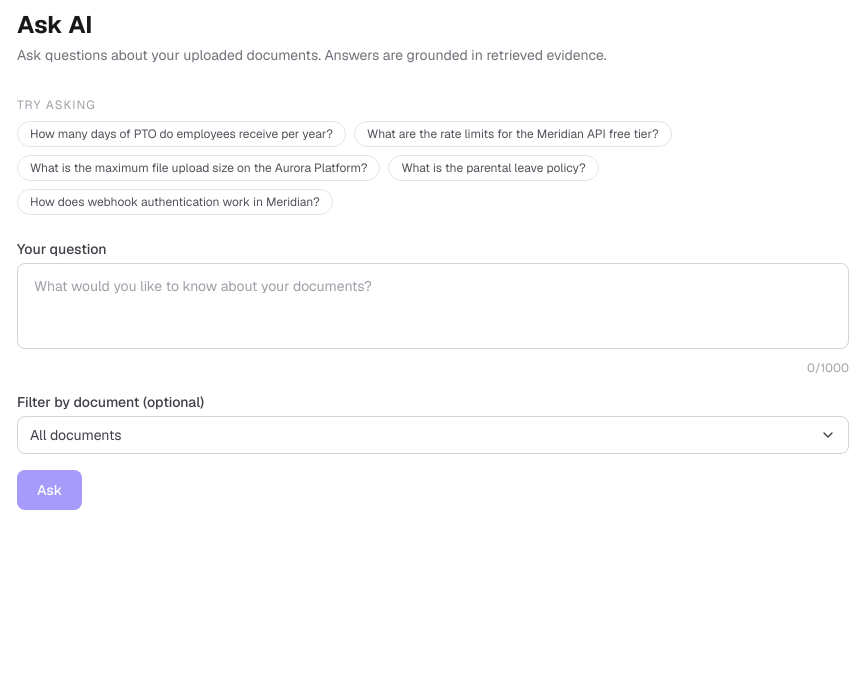
Test case: AskPage › renders citations when present
In the text box with placeholder "What would you like to know about your documents?": (433, 306) [17,263,849,349], type "What is 42?"
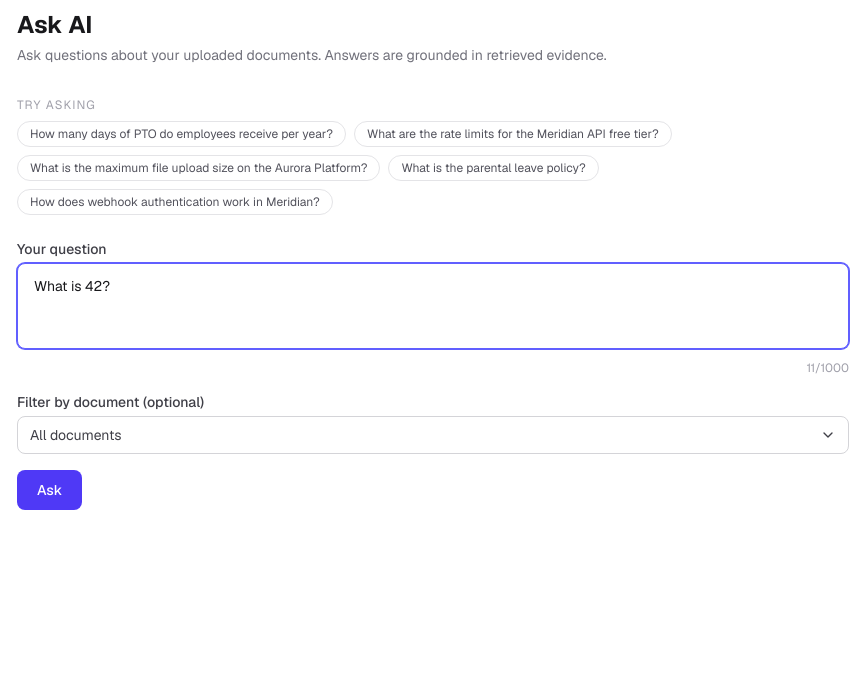
Click the button "Ask": (50, 490) [17,470,82,510]
(page scrolled)
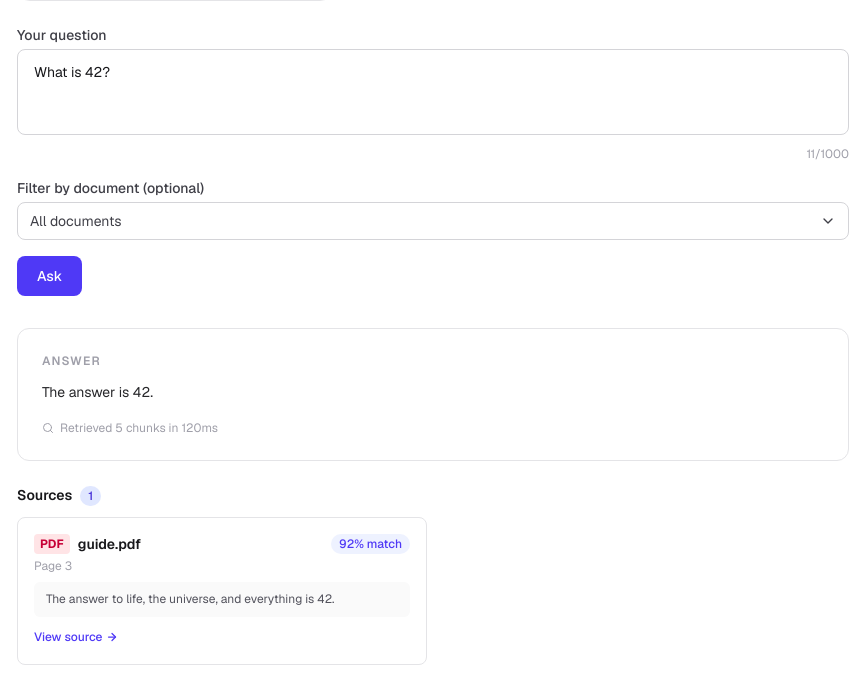
Result: the text "guide.pdf" is shown at [78,534,141,554]
Result: the text "92% match" is shown at [331,534,410,554]
Result: the text "Page 3" is shown at [34,558,72,574]
